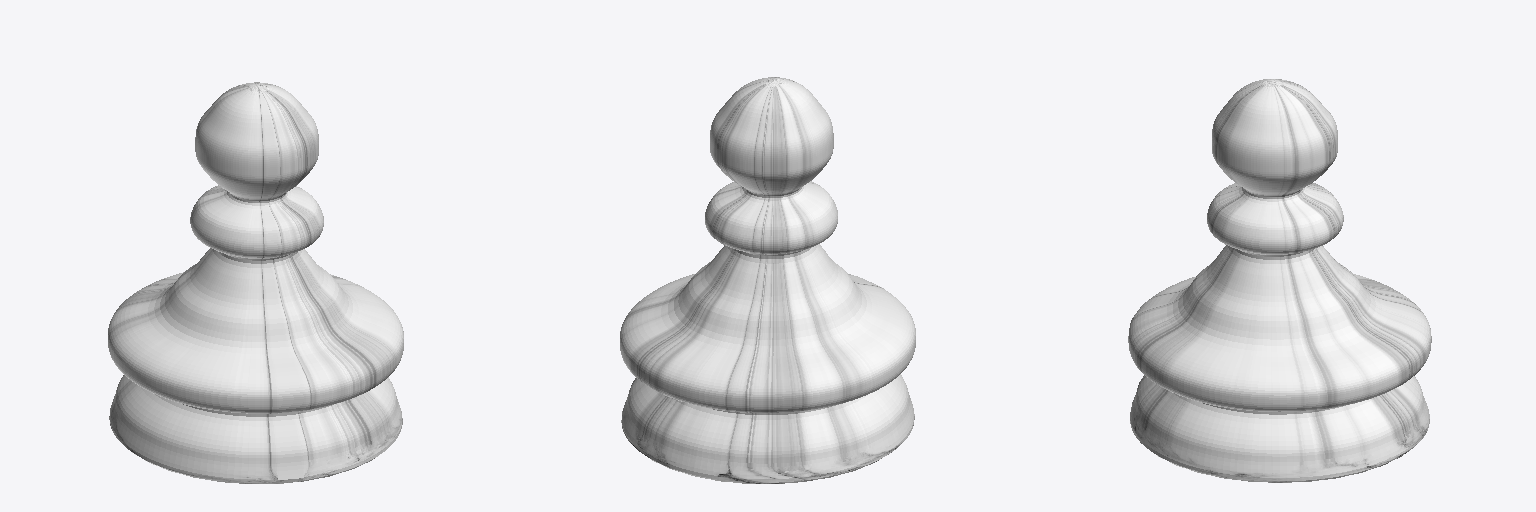
3 renders of one model, left to right at view 1: azimuth 30°, elevation 25°; view 2: azimuth 150°, elevation 25°; view 3: azimuth 270°, elevation 25°, orthographic.
Visible parts, largest first — view 1: Cylinder; view 2: Cylinder; view 3: Cylinder.
Boxes of the visible parts, x1,y1,x2,y2 form: Cylinder: [108, 82, 403, 483]; Cylinder: [620, 77, 915, 483]; Cylinder: [1128, 79, 1431, 482].
Size of the model in its own units: 2.3 by 2.99 by 2.37.
Materials: 1 (1 with a texture image).